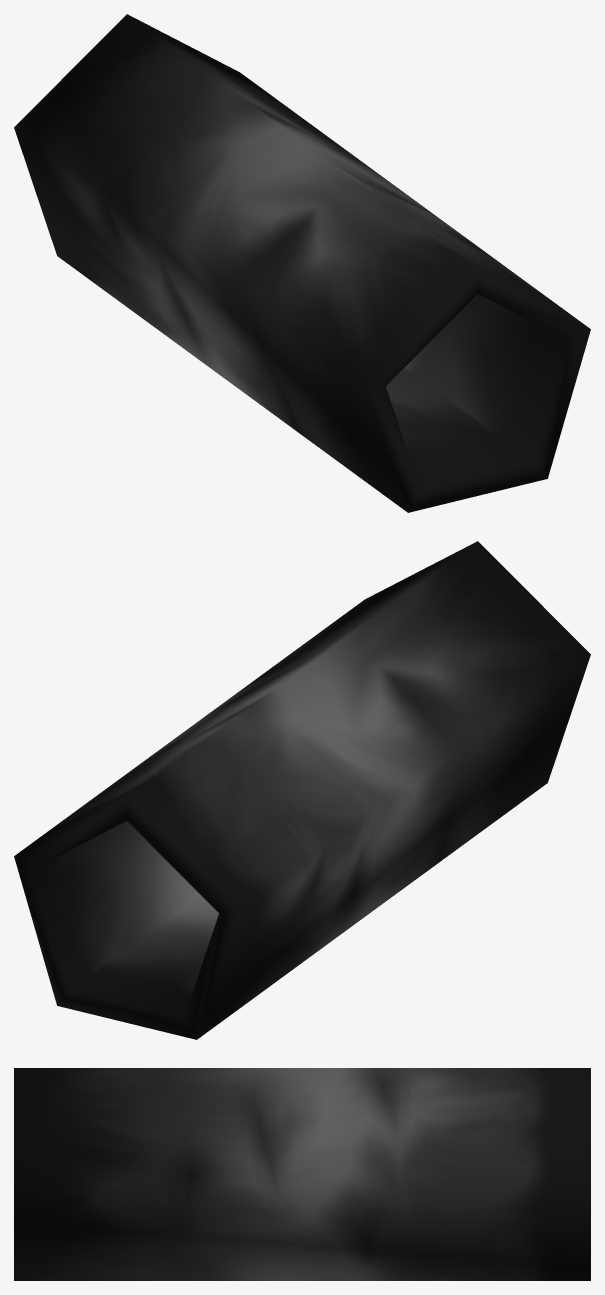
File: tube_type_2.fbx
3 renders of one model, top to bottom at view 1: azimuth 30°, elevation 25°; view 2: azimuth 150°, elevation 25°; view 3: azimuth 270°, elevation 25°, orthographic. The views are drawn at different scales.
Parts seen in each view (by area): view 1: tube_type_2; view 2: tube_type_2; view 3: tube_type_2.
Boxes of the visible parts, left/top/right/bottom form: tube_type_2: left=14, top=14, right=590, bottom=512; tube_type_2: left=14, top=541, right=590, bottom=1039; tube_type_2: left=14, top=1068, right=590, bottom=1280.
Bounding box in the file's own units: 196 × 186 × 527.
1 material, 1 textured.
